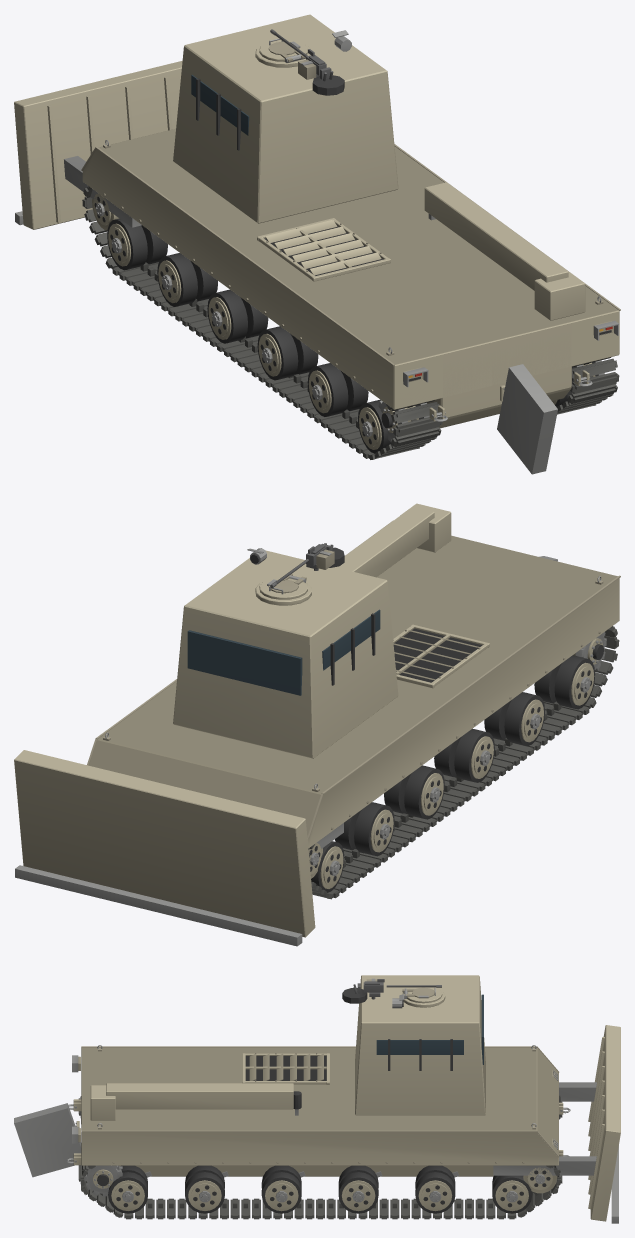
The model's file is rus_eng_bat.glb.
3 views of the same model, one above another, from view 1: azimuth 30°, elevation 25°; view 2: azimuth 150°, elevation 25°; view 3: azimuth 270°, elevation 25° (orthographic). The views are drawn at different scales.
Parts seen in each view (by area): view 1: body, barrel; view 2: body, barrel; view 3: body, barrel.
Boxes of the visible parts, x1,y1,x2,y2 form: body: [14, 14, 620, 474]; barrel: [270, 29, 333, 81]; body: [14, 503, 620, 946]; barrel: [270, 543, 334, 588]; body: [14, 975, 620, 1223]; barrel: [353, 978, 441, 999].
Size of the model in its own units: 4 by 3.5 by 9.72.
